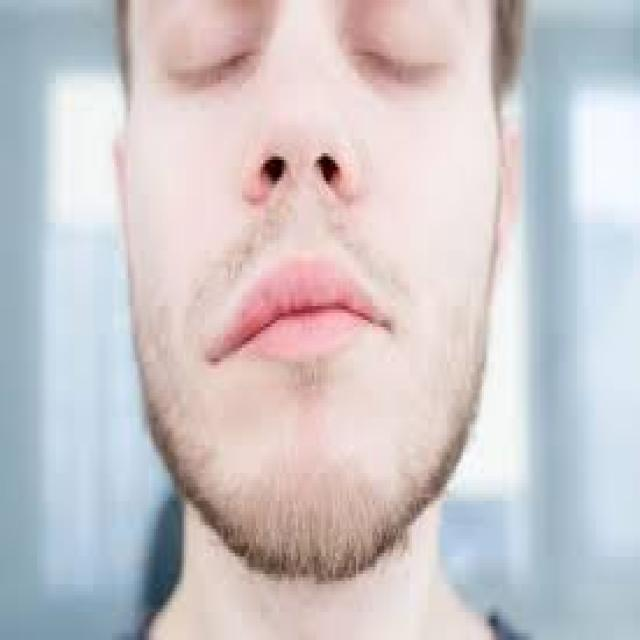stroke_face: (120, 6, 530, 592)
